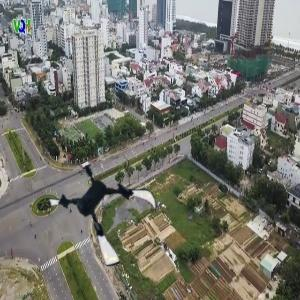drone: (52, 160, 159, 267)
